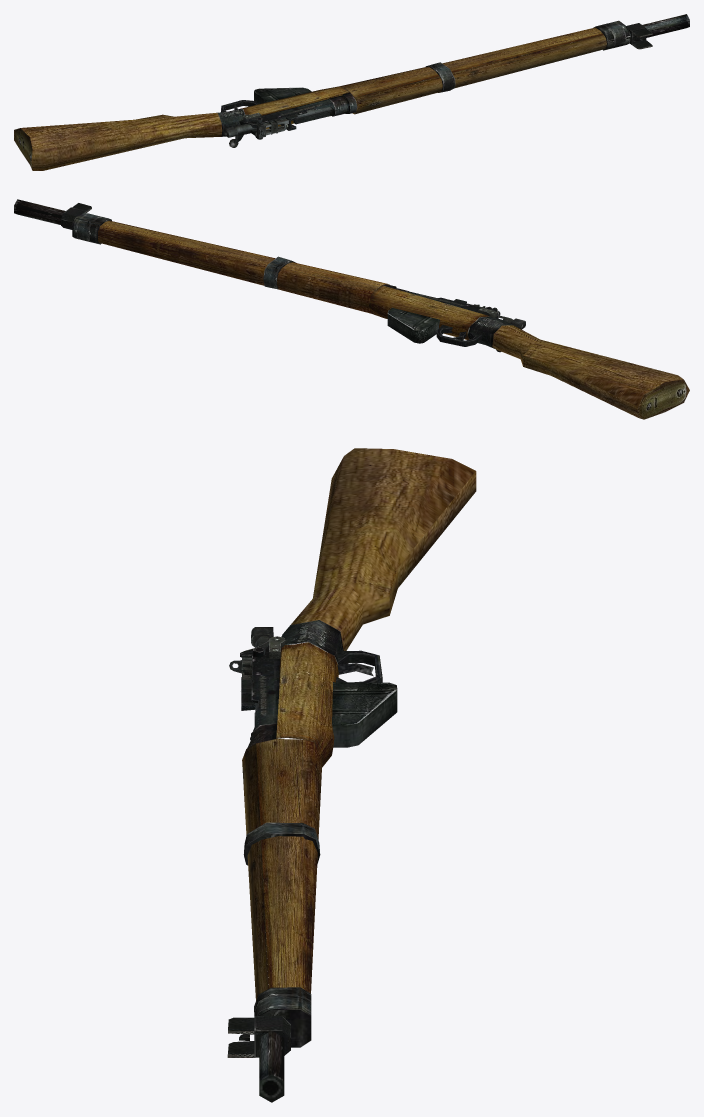
The model's file is weapon_enfield.glb.
The picture shows the model from 3 angles, top to bottom: view 1: azimuth 30°, elevation 25°; view 2: azimuth 150°, elevation 25°; view 3: azimuth 270°, elevation 25°; orthographic projection. The views are drawn at different scales.
Size of the model in its own units: 44.77 by 2.32 by 7.56.
Materials: 1 (1 with a texture image).
